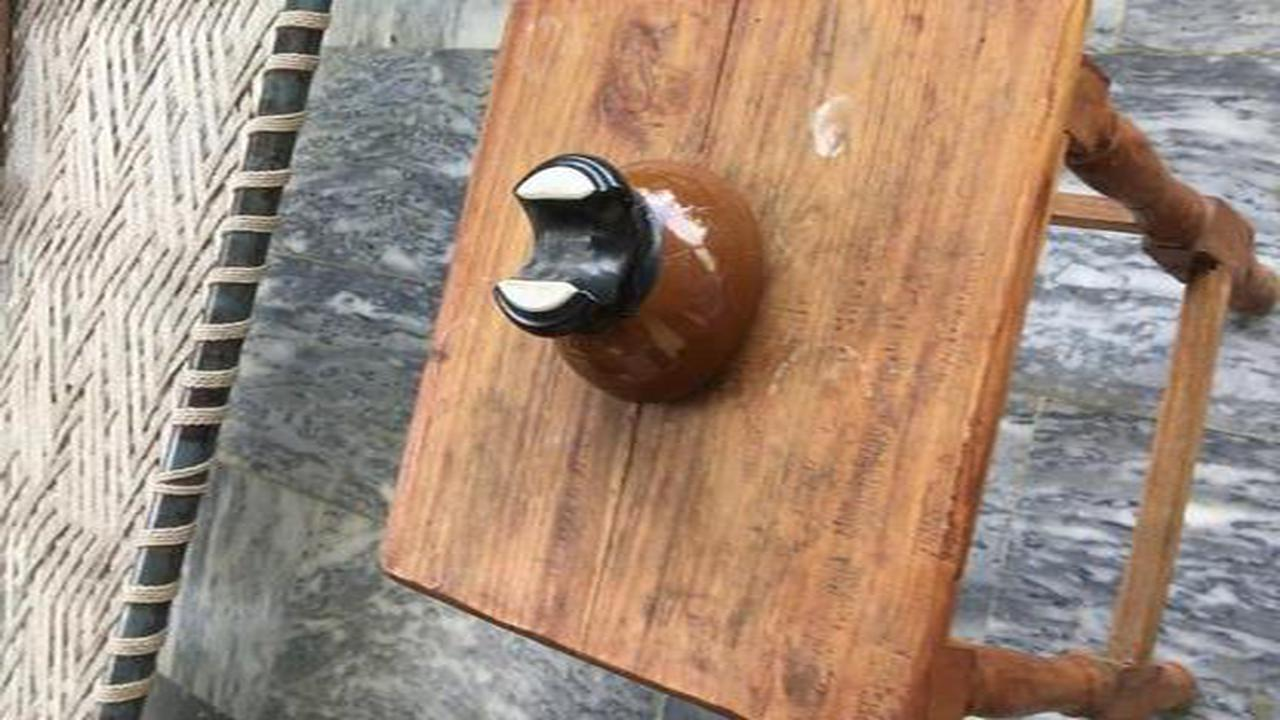insulator_pin: (487, 142, 794, 423)
